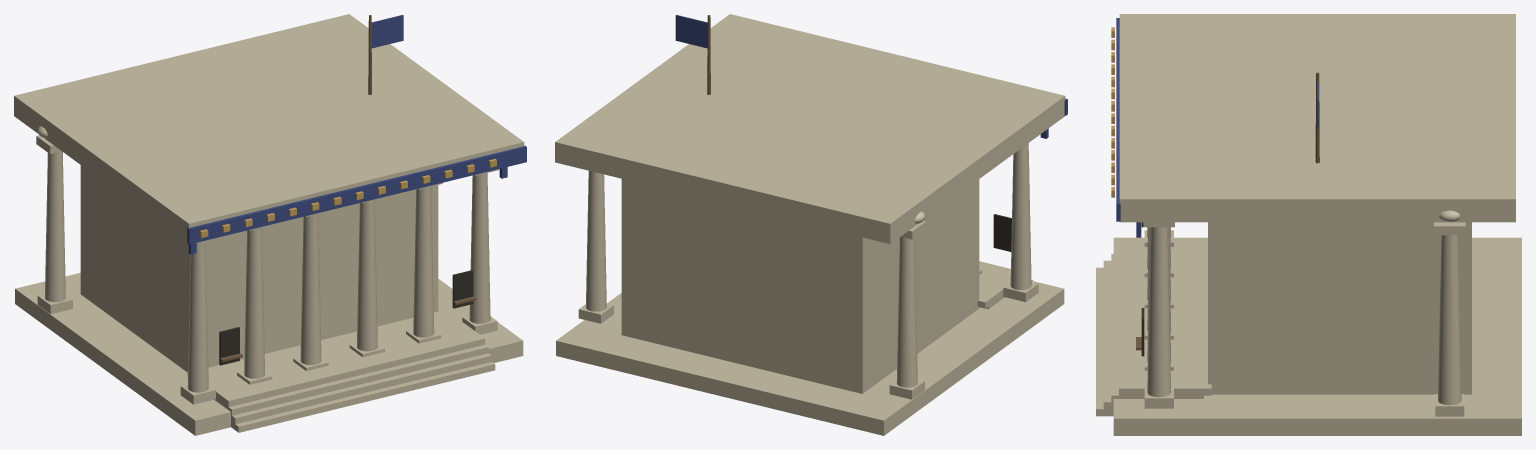
The model's file is b-specialist-persian.glb.
The picture shows the model from 3 angles, left to right: view 1: azimuth 30°, elevation 25°; view 2: azimuth 150°, elevation 25°; view 3: azimuth 270°, elevation 25°; orthographic projection. The views are drawn at different scales.
Visible parts, largest first — view 1: Structure; view 2: Structure; view 3: Structure.
Part boxes in pixels (x1=…): Structure: x1=14, y1=14, x2=526, y2=435; Structure: x1=555, y1=14, x2=1067, y2=435; Structure: x1=1096, y1=14, x2=1521, y2=435.
Size of the model in its own units: 7.08 by 5.7 by 6.7.
